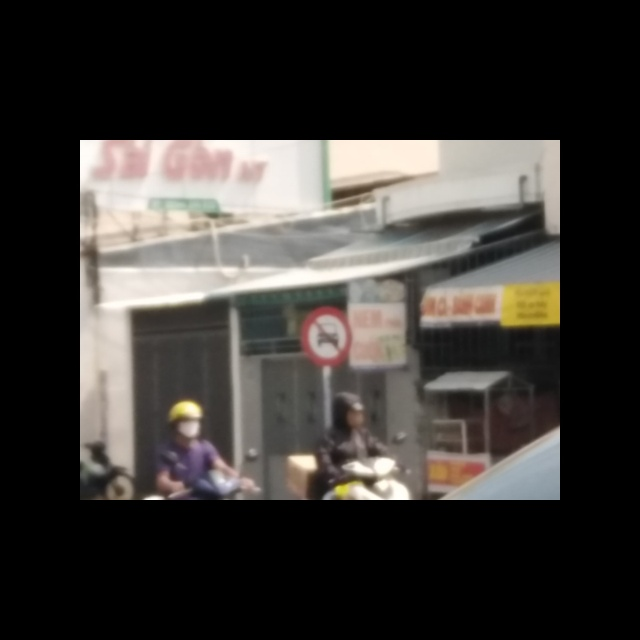Cấm xe ô tô: (300, 306, 356, 369)
